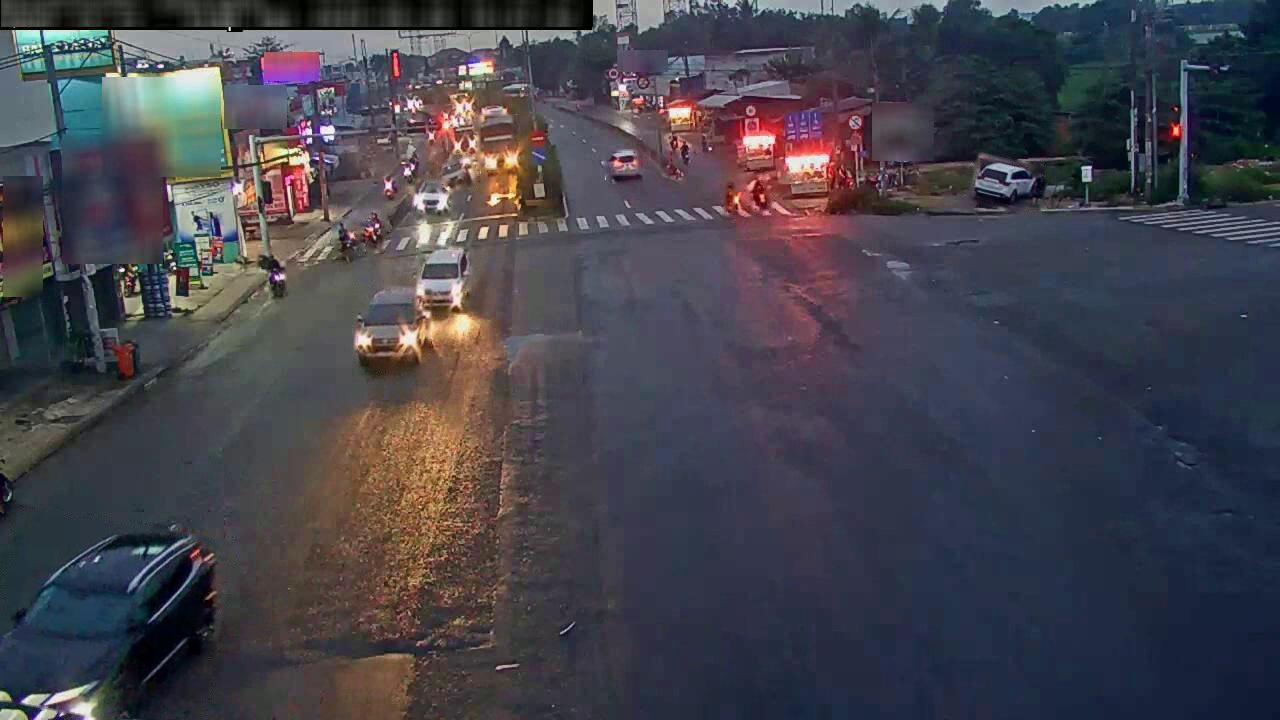Bus: (478, 109, 518, 173)
Car: (0, 525, 216, 719), (353, 288, 431, 367), (416, 248, 468, 311), (973, 162, 1043, 204), (413, 181, 449, 214), (605, 150, 641, 181), (441, 160, 472, 187)
Motorcycle: (0, 470, 13, 516), (268, 269, 286, 298)
Motorcyclist: (336, 221, 359, 256), (748, 176, 769, 212), (723, 180, 740, 215)
Pedestrian: (367, 213, 382, 238)
Traffic light: (1169, 104, 1182, 140)
